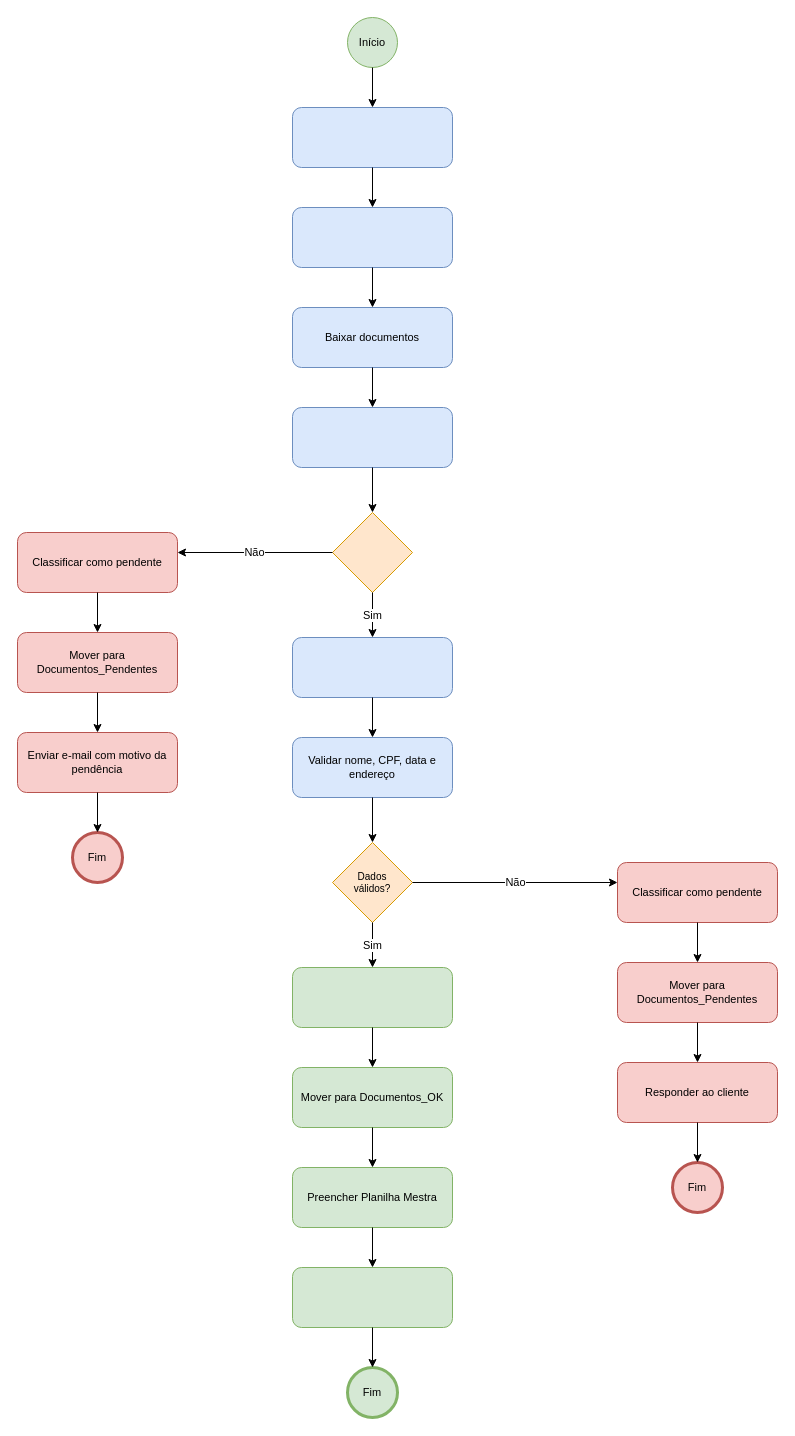
Some shapes in this 795 by 1436 pixel diagram are drawn without their labels. The shapes that lost their labels are listed below. From the top down, each one's centre as x and y in pixels, then its label:
[372,137]: Receber solicitação por e-mail
[372,237]: Validar assunto do e-mail
[372,437]: Verificar documentos recebidos
[372,552]: Documentação completa?
[372,667]: Extrair dados
[372,997]: Classificar como aprovado
[372,1297]: Responder aprovação ao cliente
